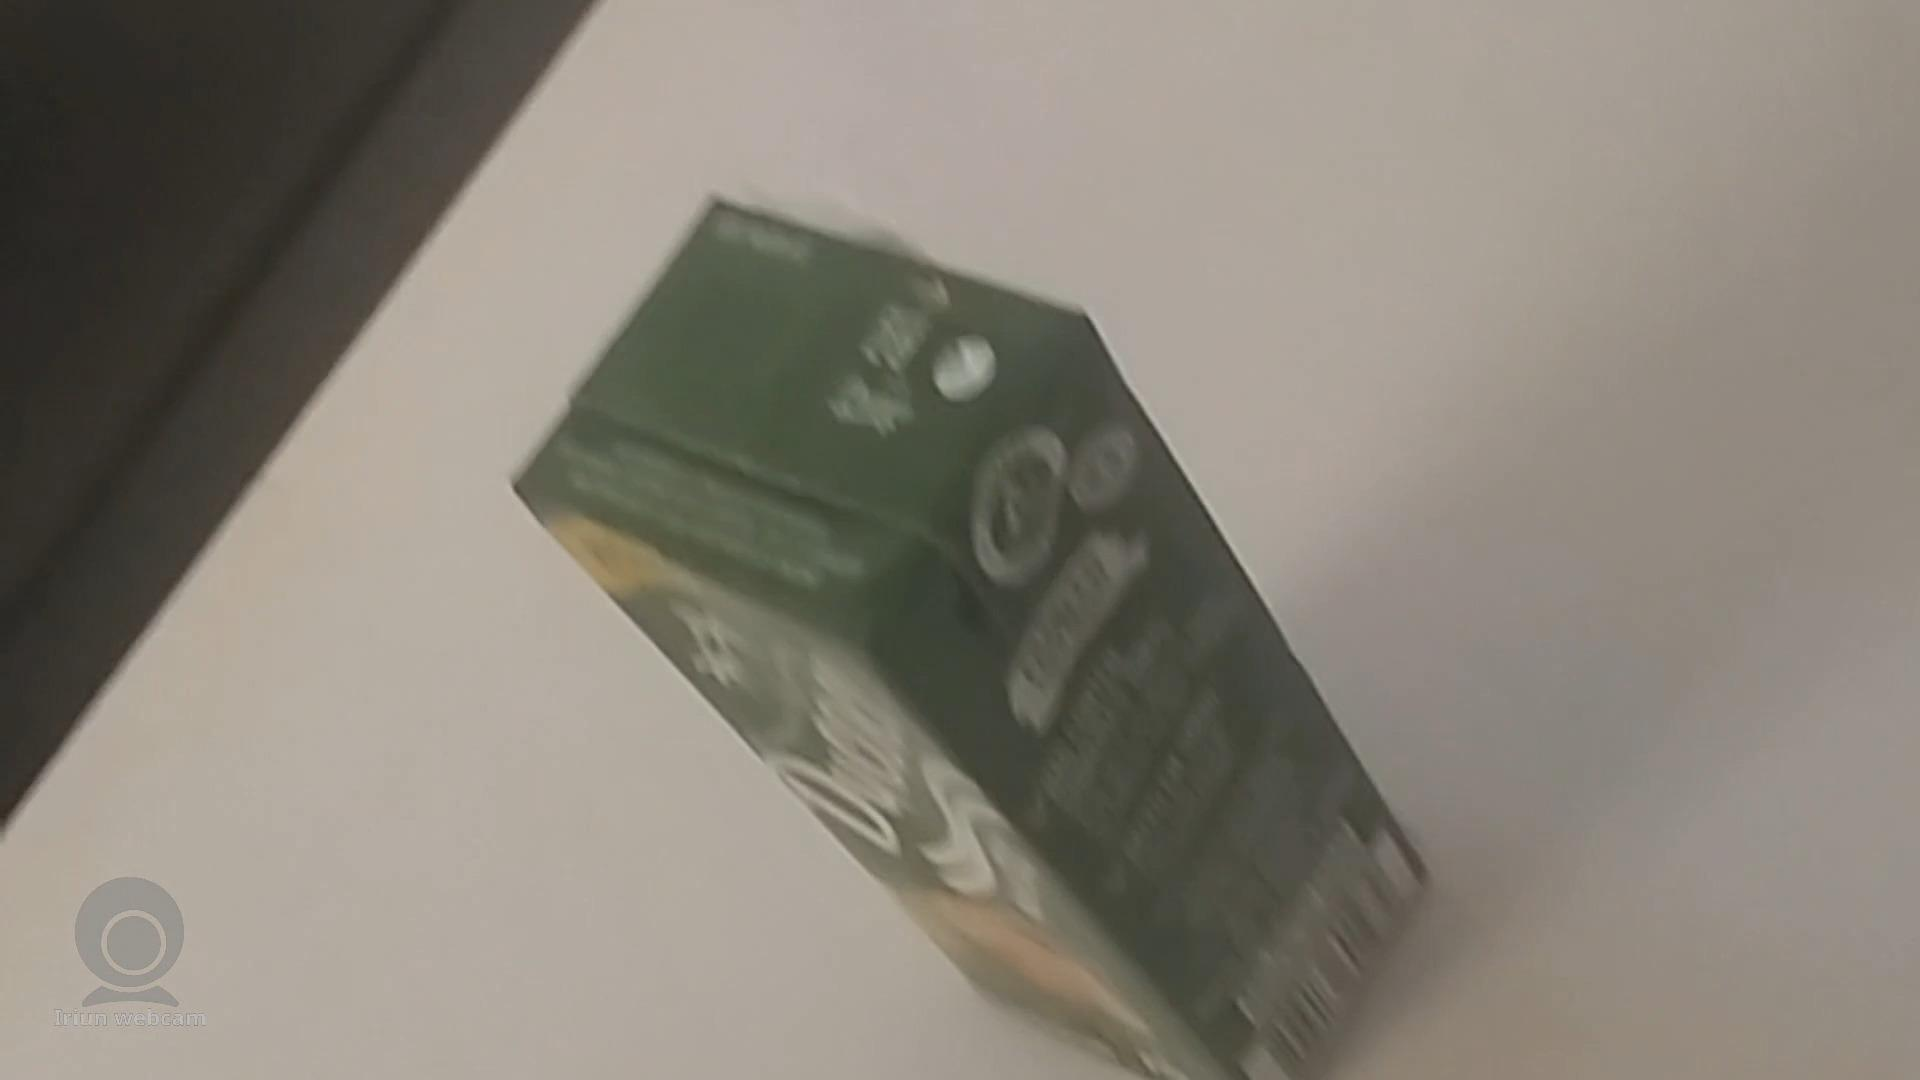coco: (505, 193, 1445, 1080)
